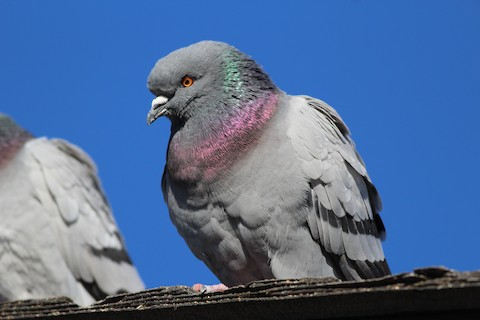pigeon: (139, 35, 401, 293)
